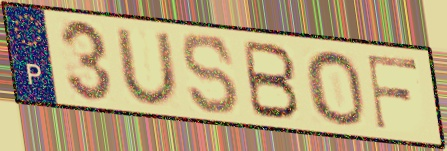3: (57, 17, 115, 105)
B: (241, 37, 303, 122)
F: (365, 52, 421, 132)
O: (302, 48, 369, 128)
S: (179, 31, 242, 117)
U: (112, 27, 183, 109)
